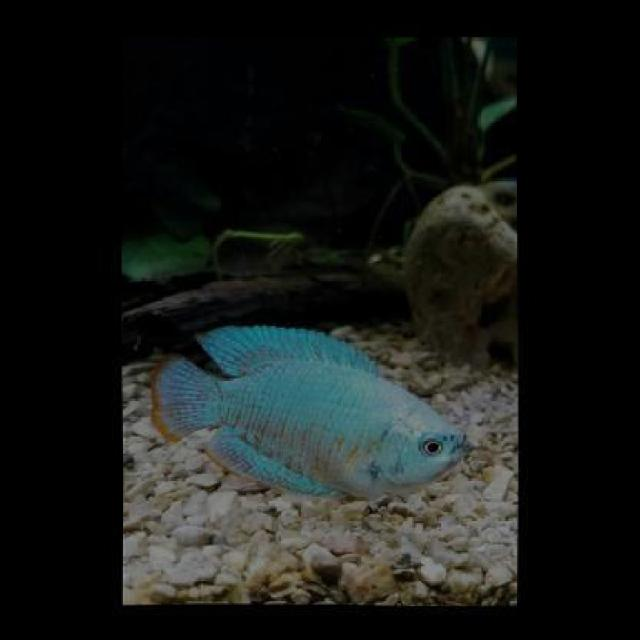Gourami: (144, 316, 470, 512)
